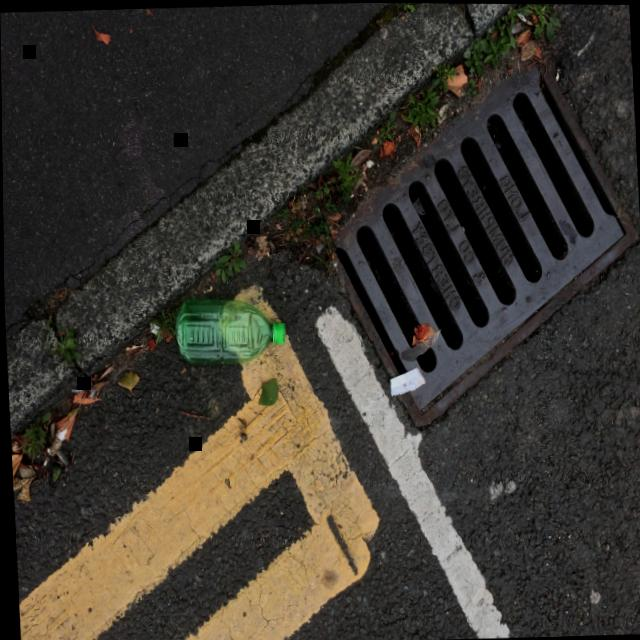Clear plastic bottle: (174, 297, 283, 363)
Normal paper: (388, 365, 424, 393)
